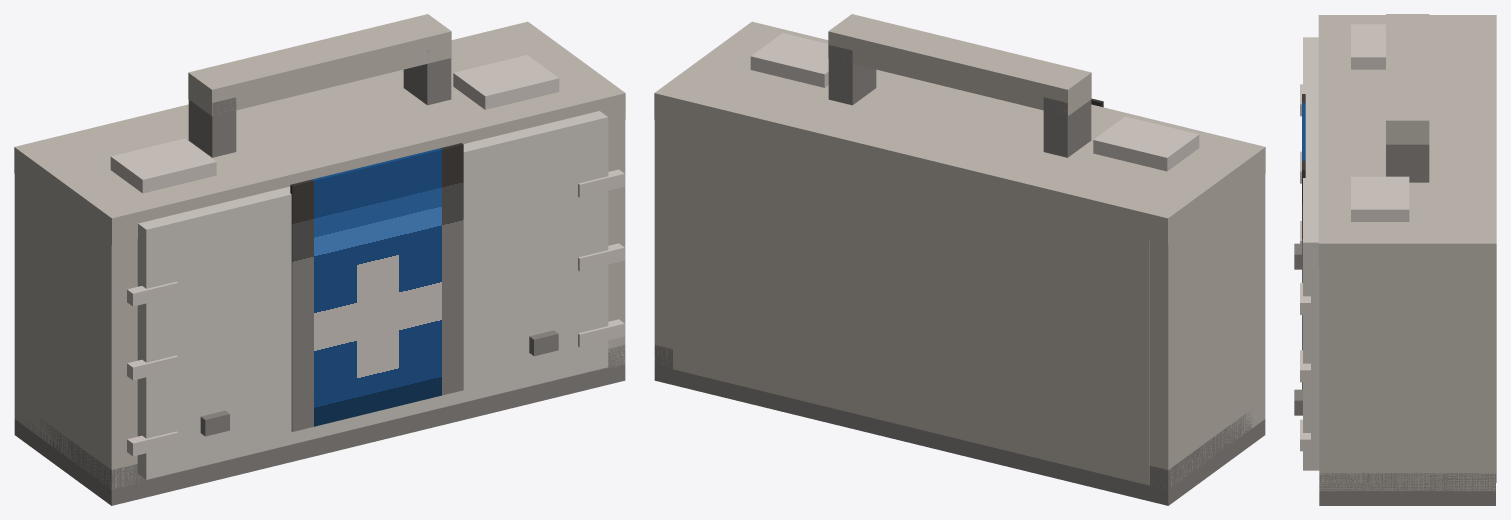
The model's file is CMU3DCMFirstAidO2KitMedicalSmallCloud.glb.
3 views of the same model, side by side, from view 1: azimuth 30°, elevation 25°; view 2: azimuth 150°, elevation 25°; view 3: azimuth 270°, elevation 25° (orthographic). The views are drawn at different scales.
Visible parts, largest first — view 1: closed front lid, original center kit marking, case top rail, left shell wall, case bottom, carry handle top bridge, top clasp 0.25, top clasp -0.25, right shell wall, left handle upright, right handle upright, left case molded rib 2 (+5 smaller); view 2: case rear shell, case top rail, left shell wall, case bottom, carry handle top bridge, right shell wall, top clasp -0.25, top clasp 0.25, left handle upright, right handle upright; view 3: right shell wall, case top rail, closed front lid, carry handle top bridge, case bottom, top clasp 0.25, top clasp -0.25, right handle upright, original center kit marking, right case molded rib 1, right case molded rib 0, right case molded rib 2 (+1 smaller).
Part boxes in pixels (x1,y1,x2,y2): closed front lid: (137, 111, 608, 479); original center kit marking: (290, 143, 463, 431); case top rail: (14, 21, 625, 244); left shell wall: (14, 163, 140, 489); case bottom: (14, 345, 625, 505); carry handle top bridge: (188, 14, 451, 115); top clasp 0.25: (453, 55, 559, 109); top clasp -0.25: (110, 138, 216, 193); right shell wall: (599, 120, 625, 370); left handle upright: (188, 97, 236, 157); right handle upright: (403, 50, 451, 105); left case molded rib 2: (127, 281, 178, 306); case rear shell: (673, 113, 1149, 485); case top rail: (654, 21, 1265, 244); left shell wall: (1149, 174, 1265, 488); case bottom: (654, 345, 1265, 505); carry handle top bridge: (828, 14, 1091, 115); right shell wall: (654, 120, 672, 365); top clasp -0.25: (1093, 116, 1199, 171); top clasp 0.25: (750, 33, 828, 87); left handle upright: (1043, 97, 1091, 157); right handle upright: (828, 45, 876, 105); right shell wall: (1319, 258, 1495, 491); case top rail: (1318, 15, 1496, 267); closed front lid: (1303, 37, 1319, 470); carry handle top bridge: (1386, 14, 1429, 144); case bottom: (1319, 473, 1495, 505); top clasp 0.25: (1351, 176, 1409, 221); top clasp -0.25: (1351, 24, 1385, 69); right handle upright: (1386, 144, 1429, 182); original center kit marking: (1302, 94, 1305, 389); right case molded rib 1: (1300, 350, 1310, 382); right case molded rib 0: (1300, 419, 1310, 451); right case molded rib 2: (1300, 283, 1310, 314).
Bounding box in the file's own units: 0.75 × 0.4965 × 0.2805.
Materials: 6 (1 with a texture image).
